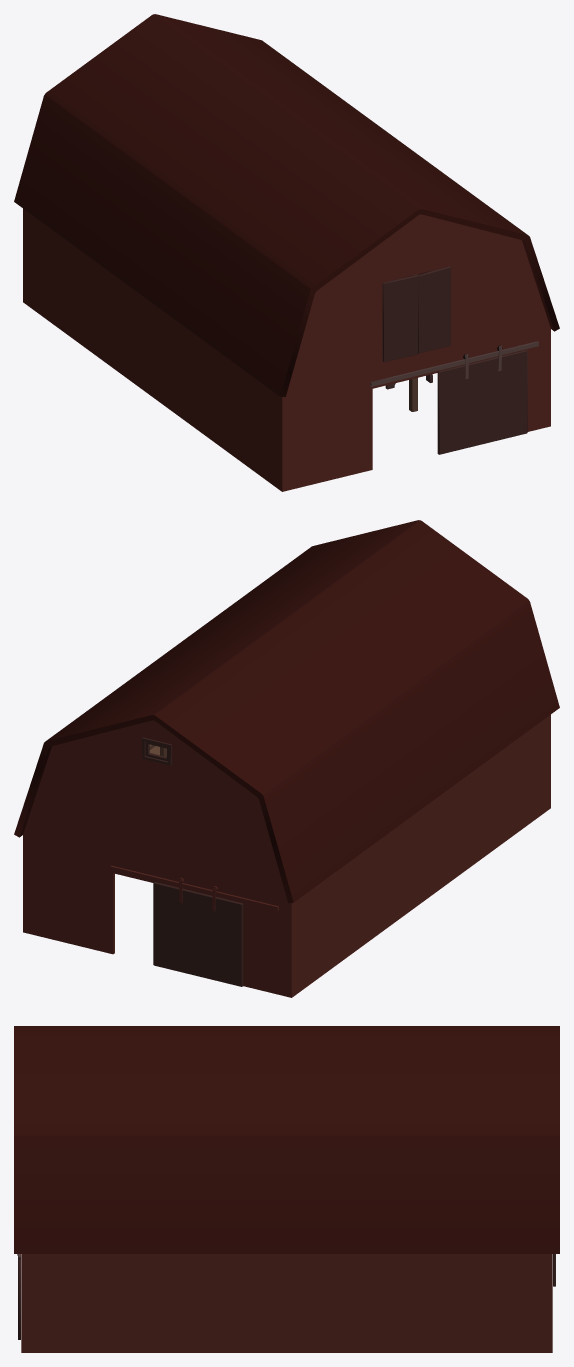
File: Set5Granero.fbx
3 views of the same model, one above another, from view 1: azimuth 30°, elevation 25°; view 2: azimuth 150°, elevation 25°; view 3: azimuth 270°, elevation 25° (orthographic). The views are drawn at different scales.
Parts seen in each view (by area): view 1: Granero; view 2: Granero; view 3: Granero.
Boxes of the visible parts, x1,y1,x2,y2 form: Granero: (14, 14, 559, 491); Granero: (14, 520, 559, 997); Granero: (14, 1026, 559, 1352).
Bounding box in the file's own units: 1298 × 1120 × 2141.
